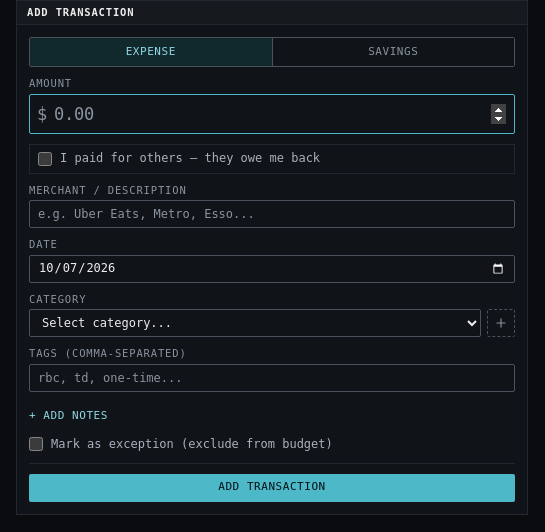
Test: validation › requires a goal for a savings contribution, and no merchant or category
Step 1. Click the button "Savings" → (393, 52), box [272,38,514,66]
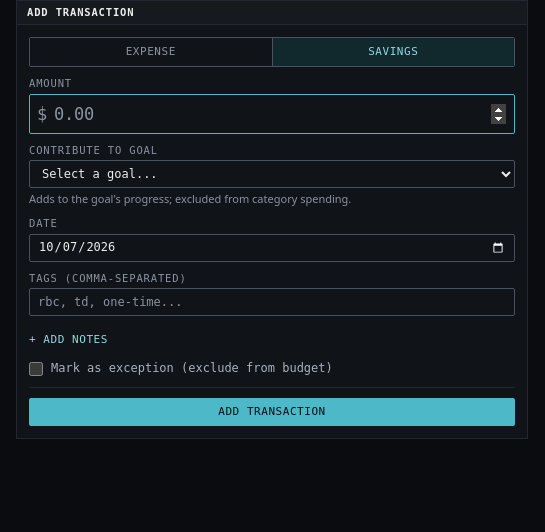
Step 2. Type "250" into the number field labelled "Amount" → (272, 114), box [29,94,515,134]
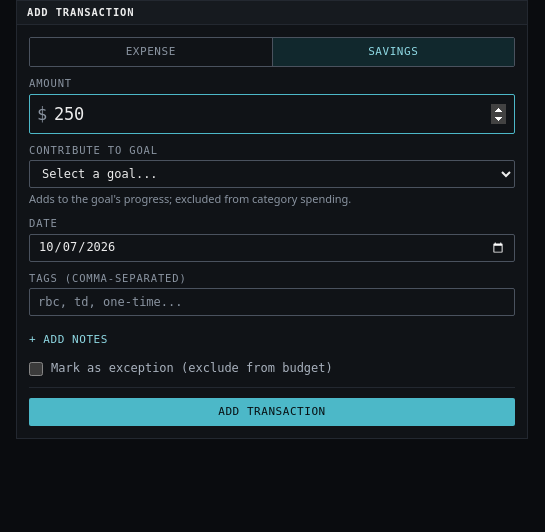
Step 3. Click the button "Add Transaction" → (272, 412), box [29,398,515,426]
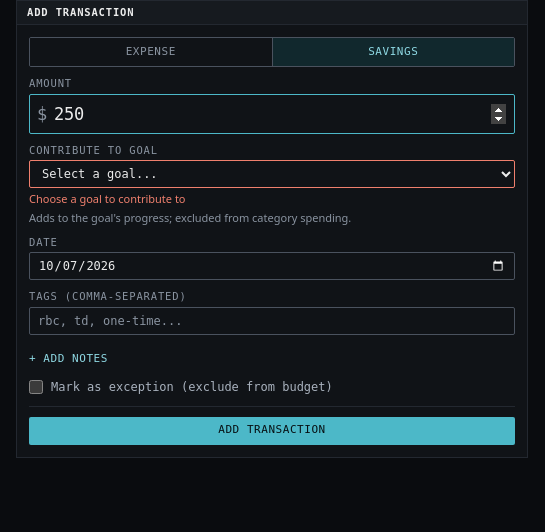
expect the text "Choose a goal to contribute to" is shown: met, box [29,191,186,206]
